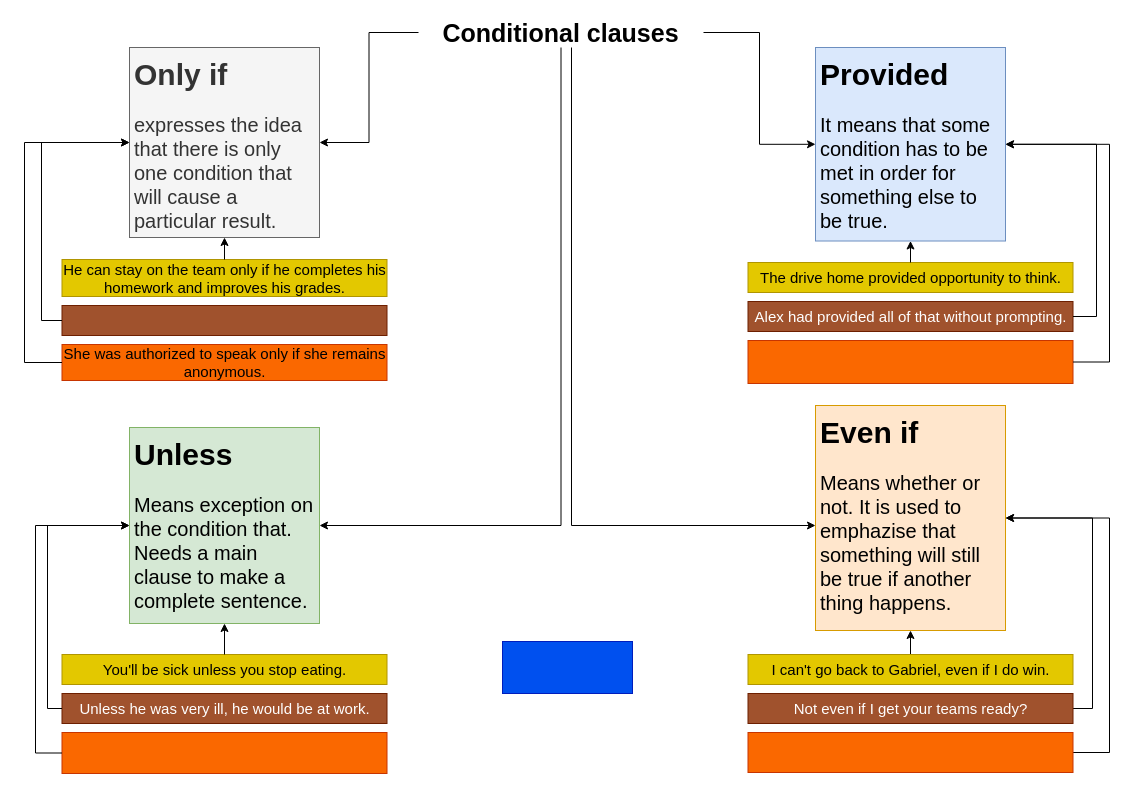
Some shapes in this 1135 by 791 pixel diagram are drawn without their labels. The centre of each missing label's shape, as x and y in pixels:
"I don't think you would have, even if you weren't married." goes at (910,752).
"I wouldn't eat that food unless I was really hungry." goes at (224,753).
"IDGS 8-3 Galvan Victor" goes at (567,667).
"The headlights behind provided a sense of false security." goes at (910,362).
"You'll lose weight only if you stick to your diet." goes at (224,320).
